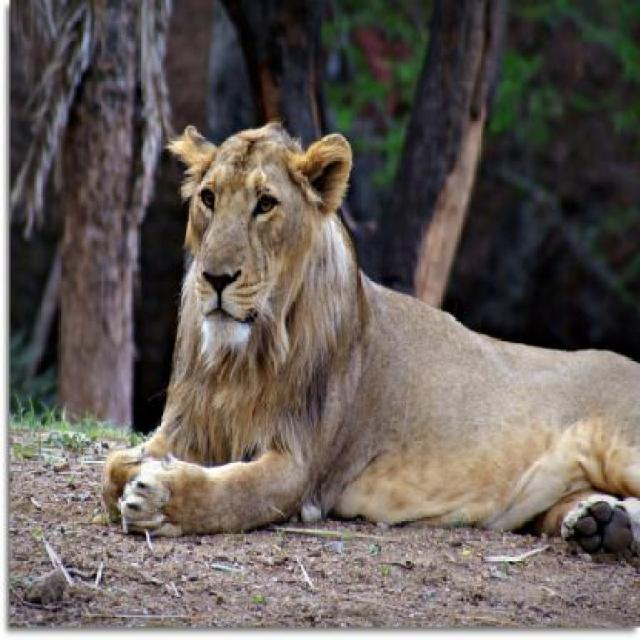Lion: (86, 102, 637, 563)
